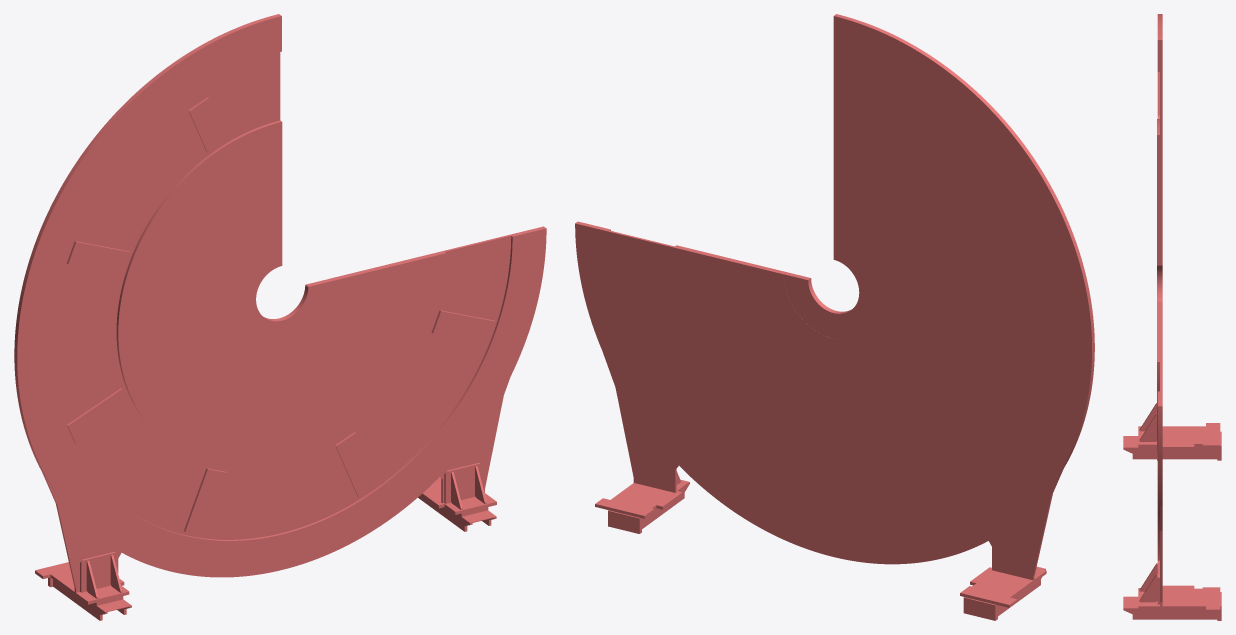
The model's file is Small-Wheel-NJD-SideC-cut3.glb.
3 renders of one model, left to right at view 1: azimuth 30°, elevation 25°; view 2: azimuth 150°, elevation 25°; view 3: azimuth 270°, elevation 25°, orthographic. The views are drawn at different scales.
Visible parts, largest first — view 1: null; view 2: null; view 3: null.
Boxes of the visible parts, x1=… form: null: x1=14, y1=14, x2=546, y2=620; null: x1=575, y1=14, x2=1094, y2=620; null: x1=1123, y1=14, x2=1221, y2=620.
Size of the model in its own units: 8.72 by 8.72 by 1.56.
